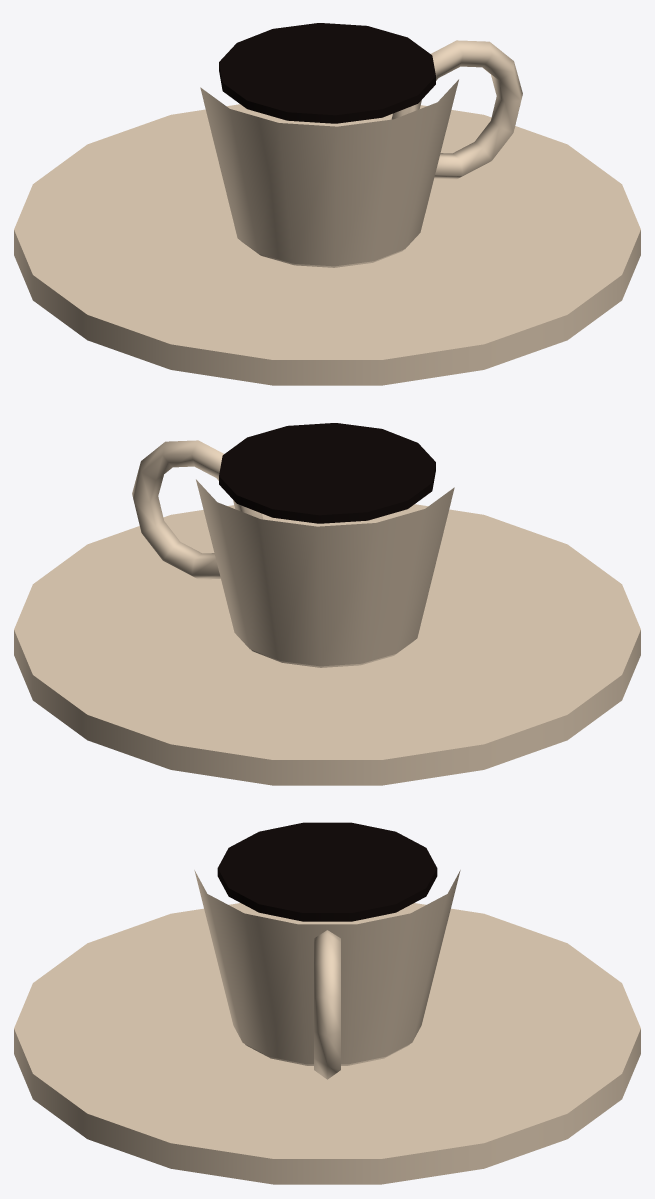
Rendered from cup.glb.
The picture shows the model from 3 angles, top to bottom: view 1: azimuth 30°, elevation 25°; view 2: azimuth 150°, elevation 25°; view 3: azimuth 270°, elevation 25°; orthographic projection.
Visible parts, largest first — view 1: cup; view 2: cup; view 3: cup.
Boxes of the visible parts, <box> form: cup: <box>14,23,640,385</box>; cup: <box>14,423,640,785</box>; cup: <box>14,822,640,1184</box>.
Size of the model in its own units: 0.3939 by 0.131 by 0.4.
